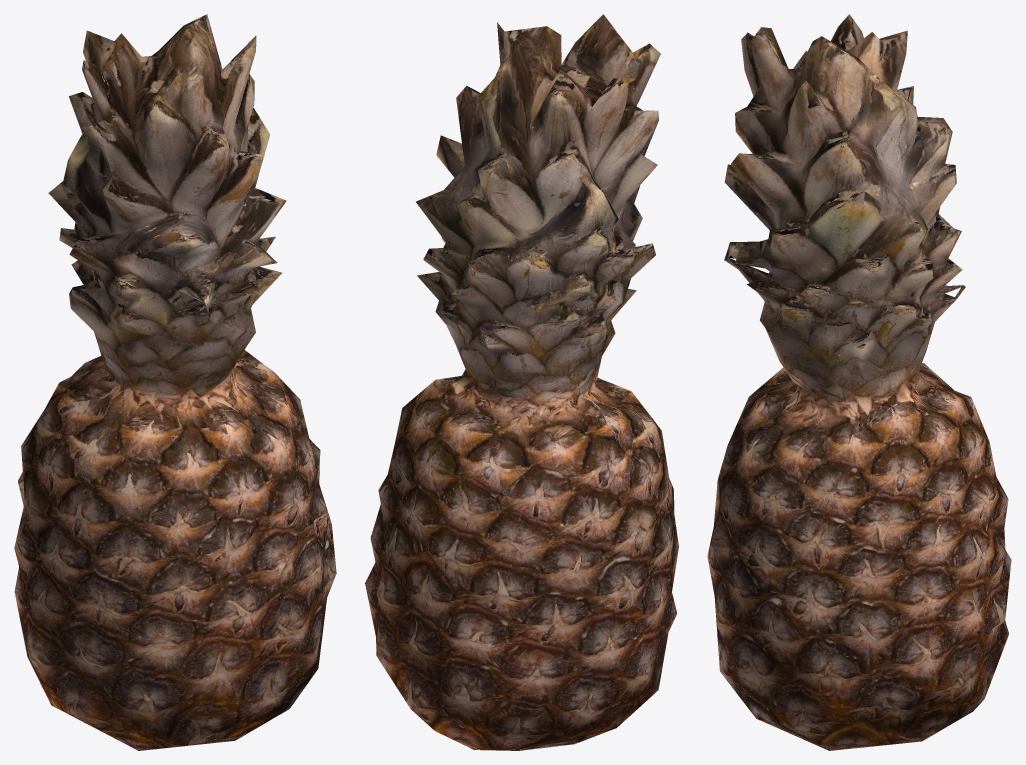
File: BrownFruitPineaple.fbx
3 views of the same model, side by side, from view 1: azimuth 30°, elevation 25°; view 2: azimuth 150°, elevation 25°; view 3: azimuth 270°, elevation 25° (orthographic). The views are drawn at different scales.
Parts seen in each view (by area): view 1: Pineaple; view 2: Pineaple; view 3: Pineaple.
Part boxes in pixels (<box>): Pineaple: <box>14,14,336,750</box>; Pineaple: <box>365,14,678,750</box>; Pineaple: <box>707,14,1011,750</box>.
Size of the model in its own units: 0.1053 by 0.1021 by 0.2532.
Materials: 1 (1 with a texture image).
